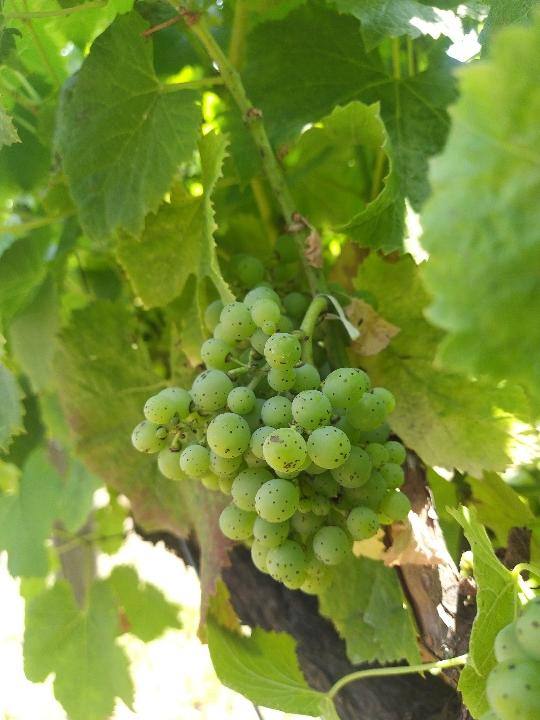grape: (129, 284, 411, 598)
